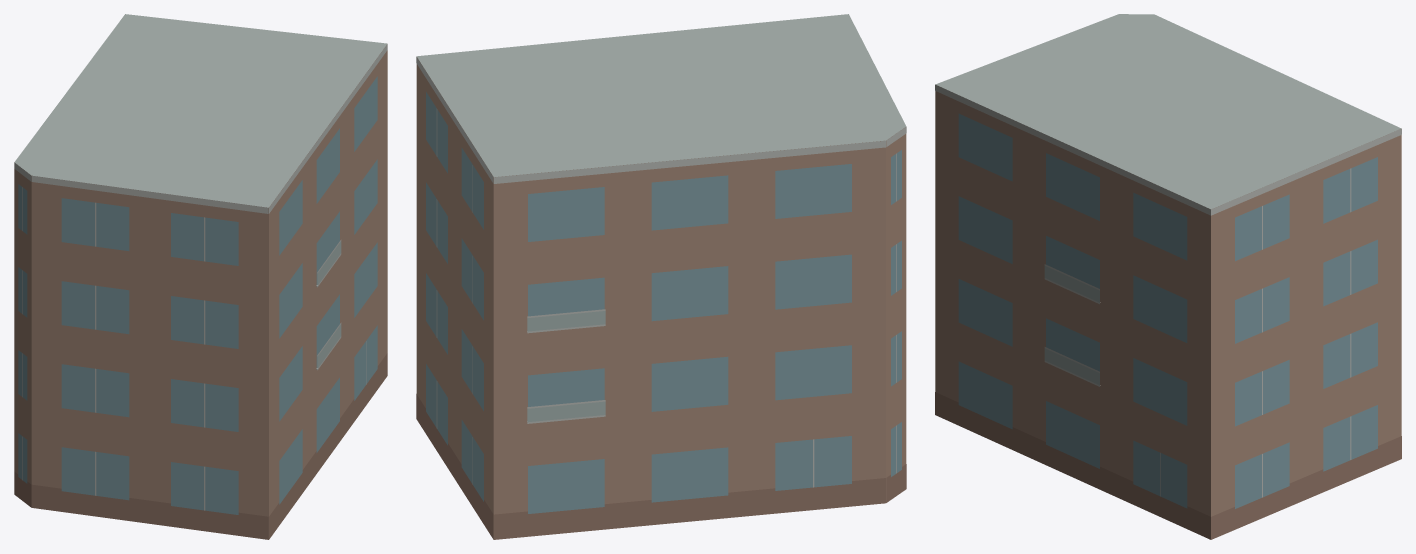
File: survey-upis-32938332.glb
3 renders of one model, left to right at view 1: azimuth 30°, elevation 25°; view 2: azimuth 150°, elevation 25°; view 3: azimuth 270°, elevation 25°, orthographic. The views are drawn at different scales.
Parts seen in each view (by area): view 1: survey-upis-32938332.tmp; view 2: survey-upis-32938332.tmp; view 3: survey-upis-32938332.tmp.
Part boxes in pixels (<box>): survey-upis-32938332.tmp: <box>14,14,387,539</box>; survey-upis-32938332.tmp: <box>416,14,906,539</box>; survey-upis-32938332.tmp: <box>935,14,1401,539</box>.
Bounding box in the file's own units: 16.24 × 12.8 × 16.38.
